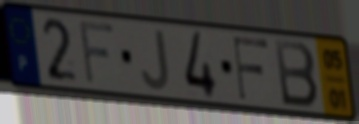2: (40, 16, 80, 86)
4: (183, 28, 220, 102)
B: (272, 37, 321, 111)
F: (77, 18, 118, 88), (231, 35, 270, 103)
J: (139, 28, 172, 93)
